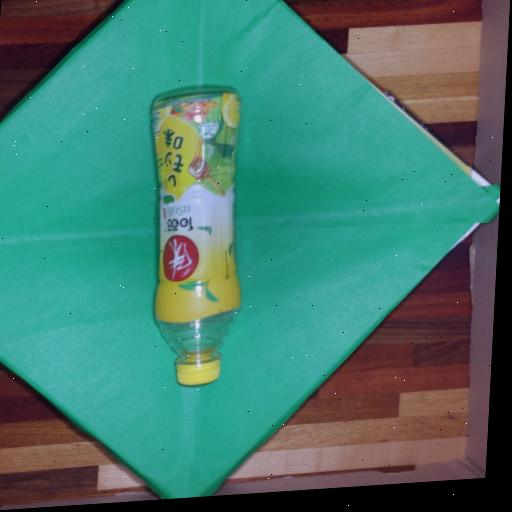bottle: (125, 72, 260, 411)
